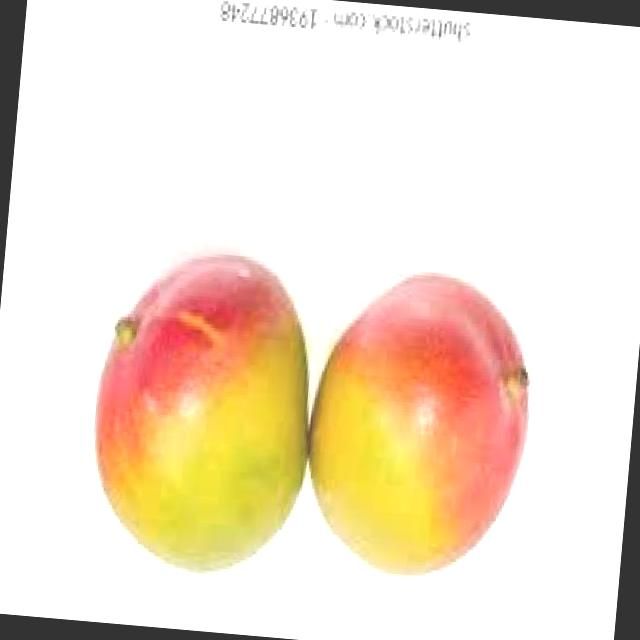Mango: (79, 240, 322, 583), (294, 262, 540, 588)
